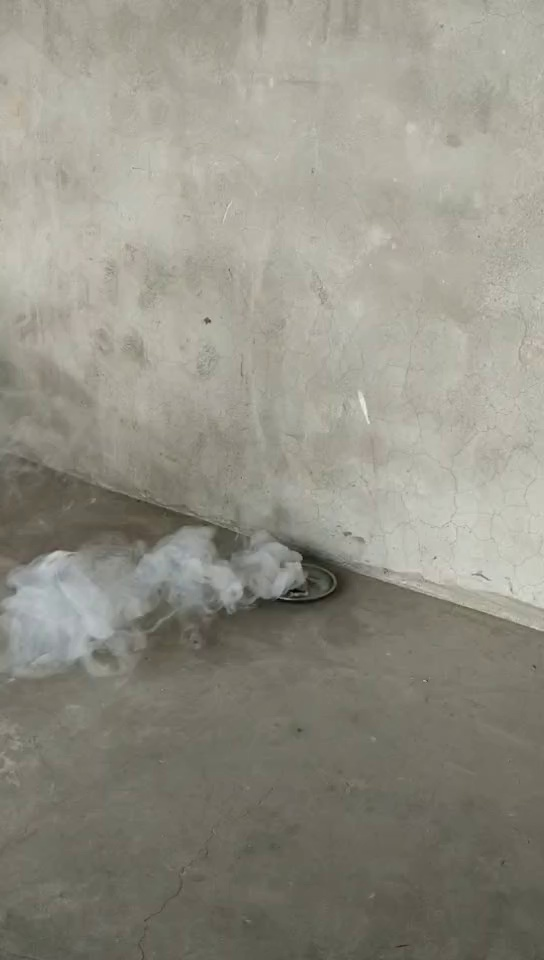yanwu: (21, 503, 291, 668)
